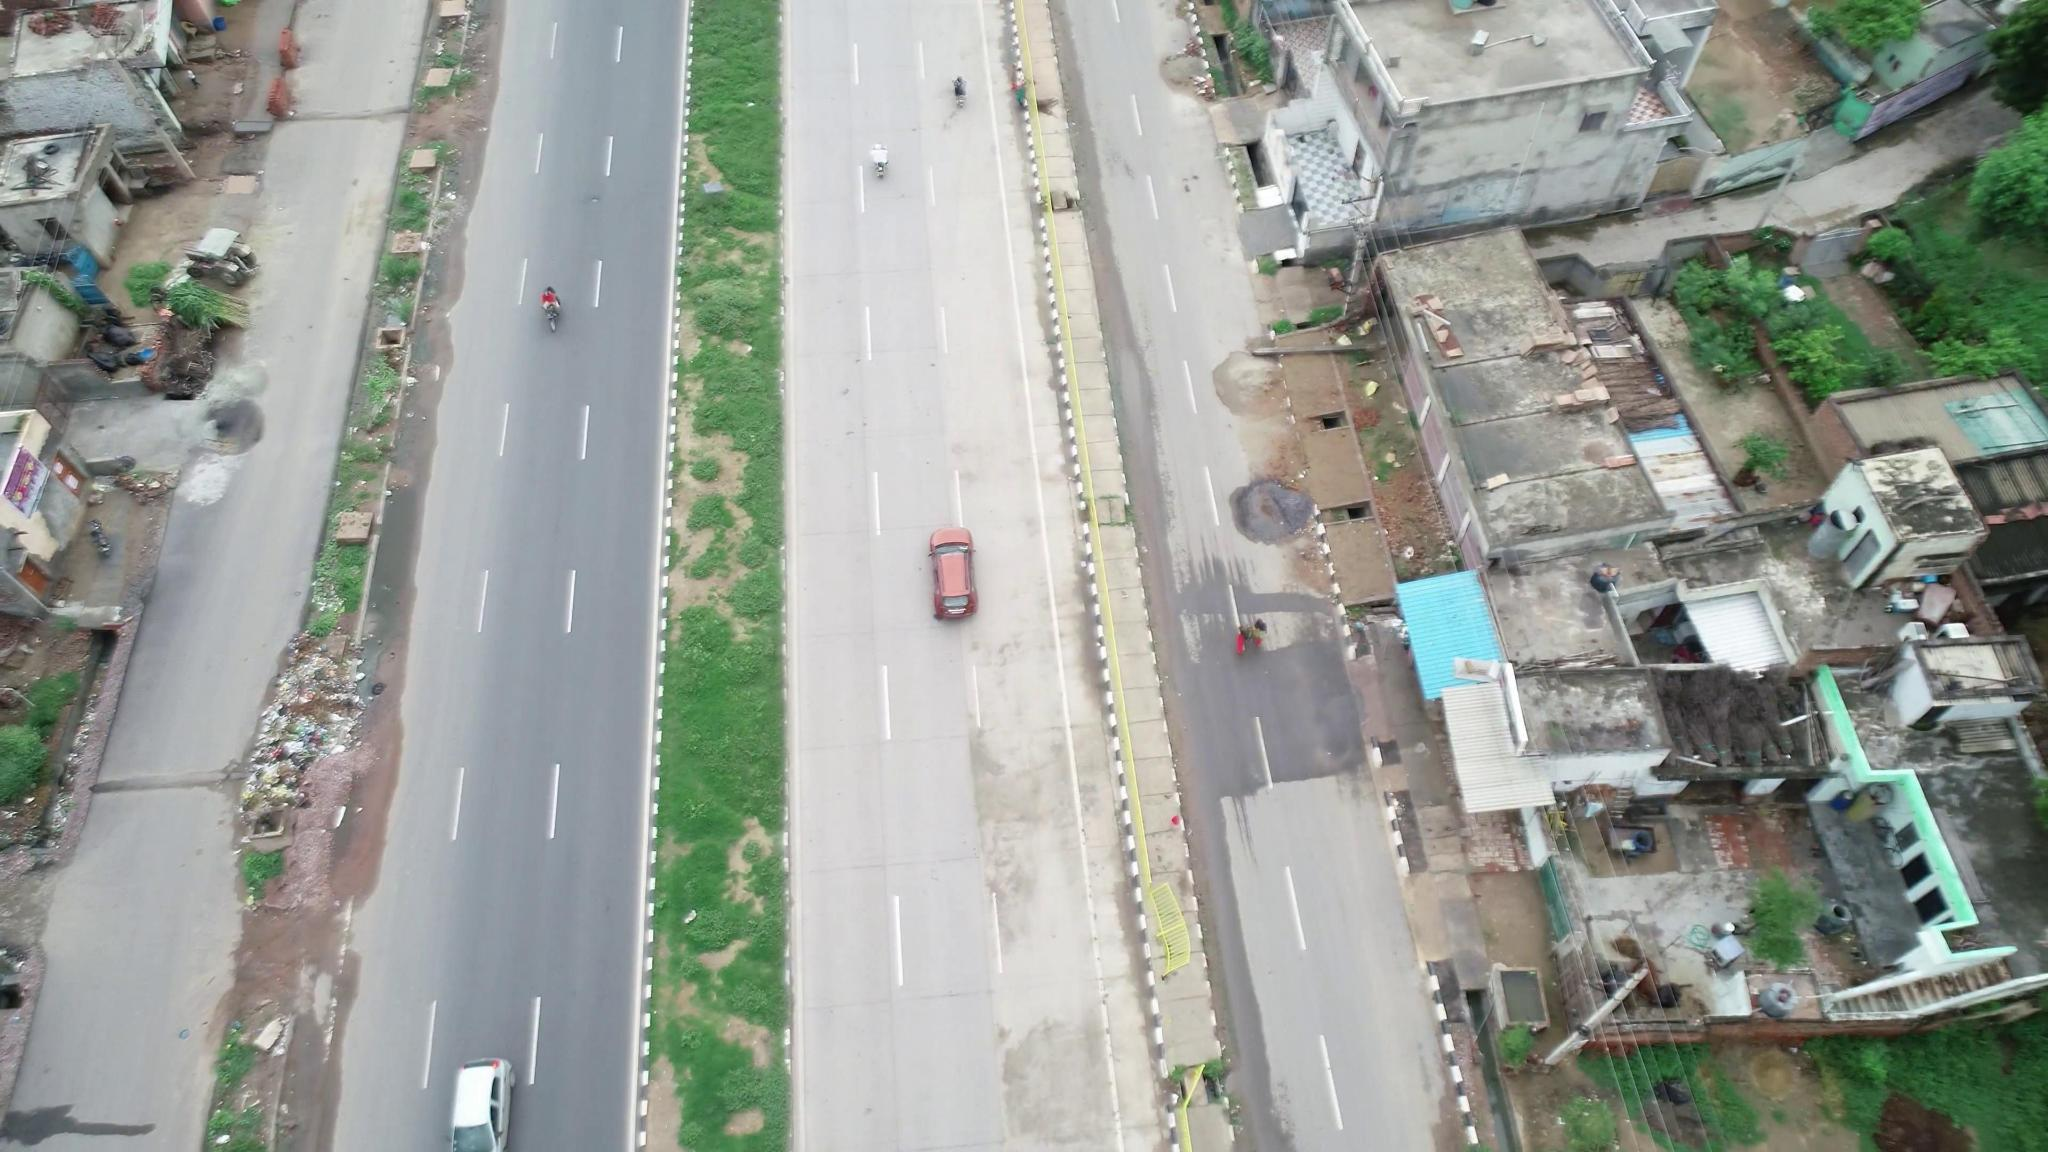Road_side_garbage: (243, 625, 384, 810)
